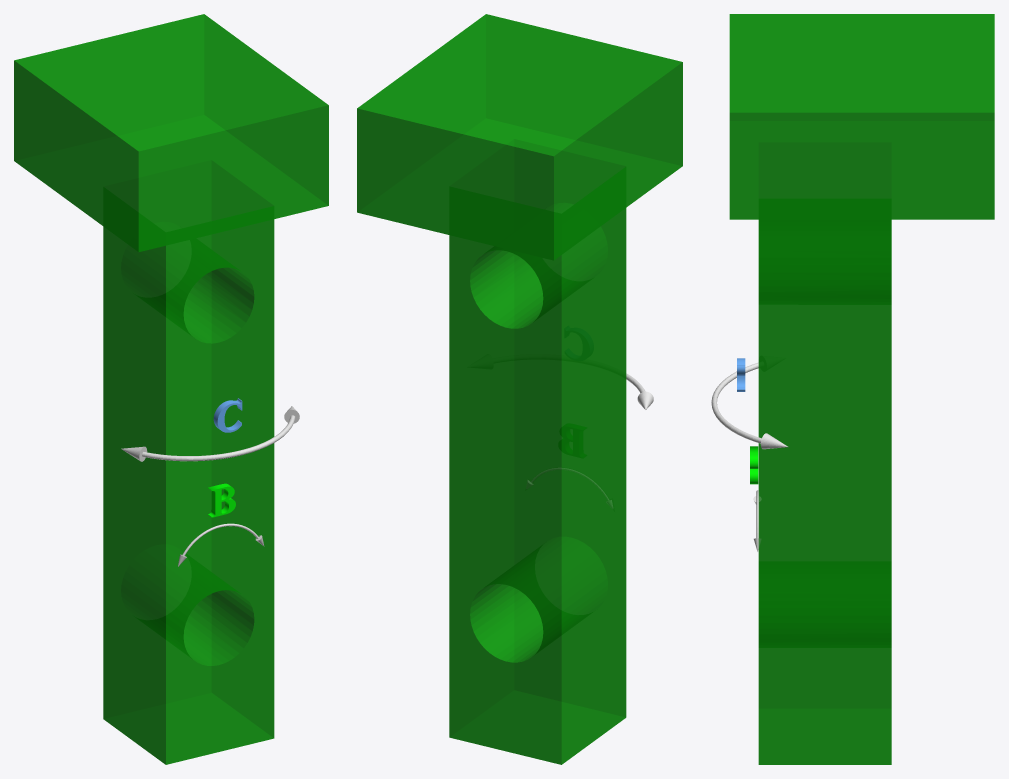
The model's file is Roth_4.gltf.
3 renders of one model, left to right at view 1: azimuth 30°, elevation 25°; view 2: azimuth 150°, elevation 25°; view 3: azimuth 270°, elevation 25°, orthographic. The views are drawn at different scales.
Parts seen in each view (by area): view 1: winder_crosscarriage1, Thin_Torus_Sector.005, Letter_B; view 2: winder_crosscarriage1; view 3: winder_crosscarriage1, Thin_Torus_Sector.005.
Boxes of the visible parts, x1,y1,x2,y2 form: winder_crosscarriage1: (14, 14, 328, 764); Thin_Torus_Sector.005: (142, 415, 295, 461); Letter_B: (208, 483, 235, 517); winder_crosscarriage1: (357, 14, 682, 764); winder_crosscarriage1: (729, 14, 994, 764); Thin_Torus_Sector.005: (711, 362, 761, 443).
Size of the model in its own units: 0.2784 by 0.8863 by 0.3375.
